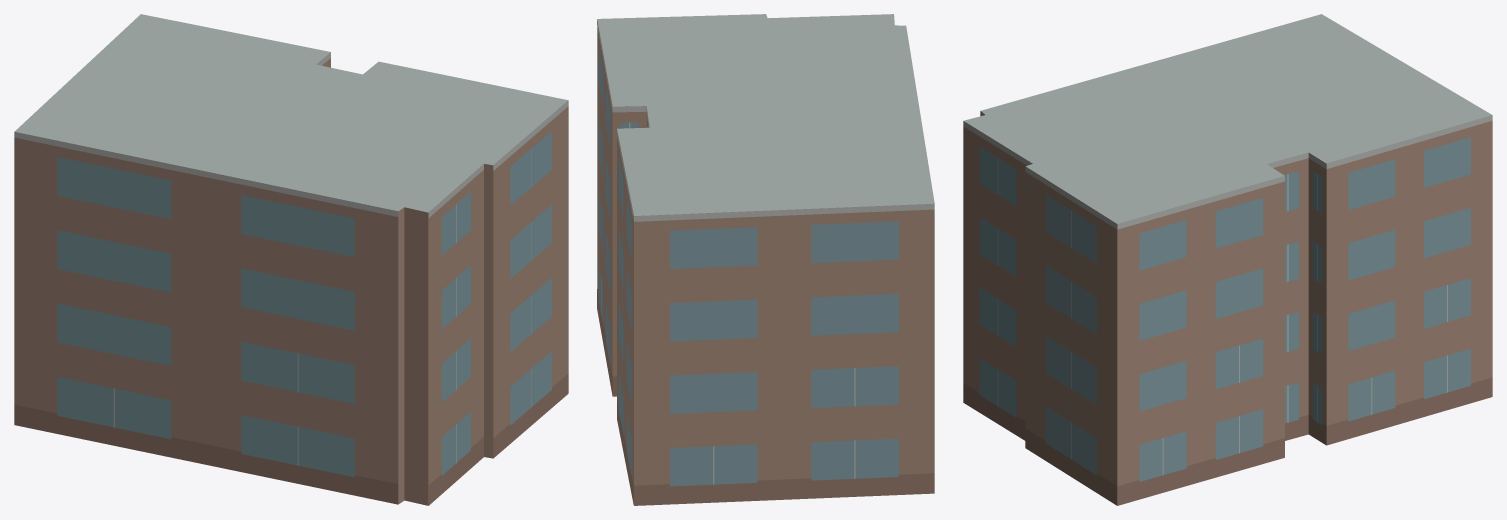
File: survey-upis-32919824.glb
3 renders of one model, left to right at view 1: azimuth 30°, elevation 25°; view 2: azimuth 150°, elevation 25°; view 3: azimuth 270°, elevation 25°, orthographic. The views are drawn at different scales.
Visible parts, largest first — view 1: survey-upis-32919824.tmp; view 2: survey-upis-32919824.tmp; view 3: survey-upis-32919824.tmp.
Part boxes in pixels (box(x1,y1,x2,y2)): survey-upis-32919824.tmp: box(14, 14, 568, 505); survey-upis-32919824.tmp: box(597, 14, 934, 505); survey-upis-32919824.tmp: box(963, 14, 1492, 505).
Bounding box in the file's own units: 19.7 × 12.32 × 20.98.
